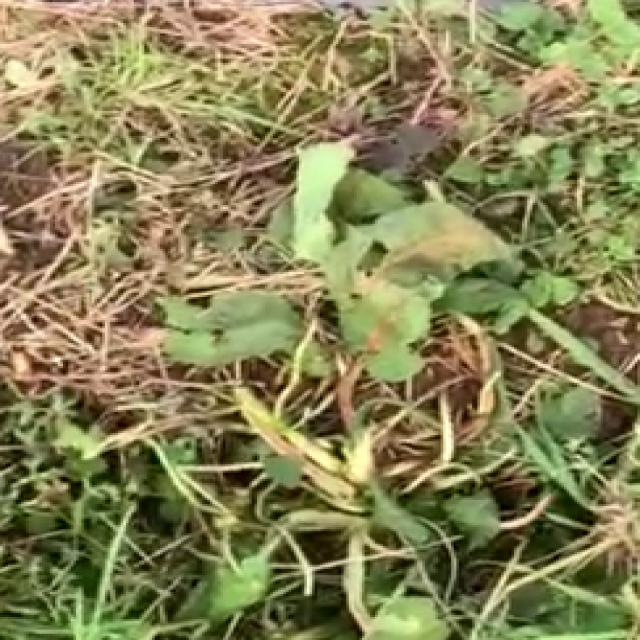organic waste: (147, 165, 556, 596)
